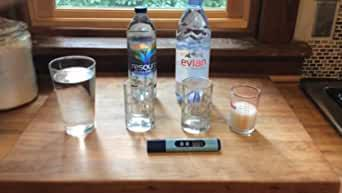bottle: (173, 0, 213, 114), (124, 4, 161, 105)
